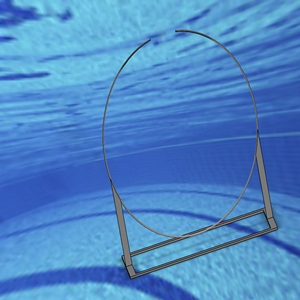circle: (102, 26, 279, 278)
